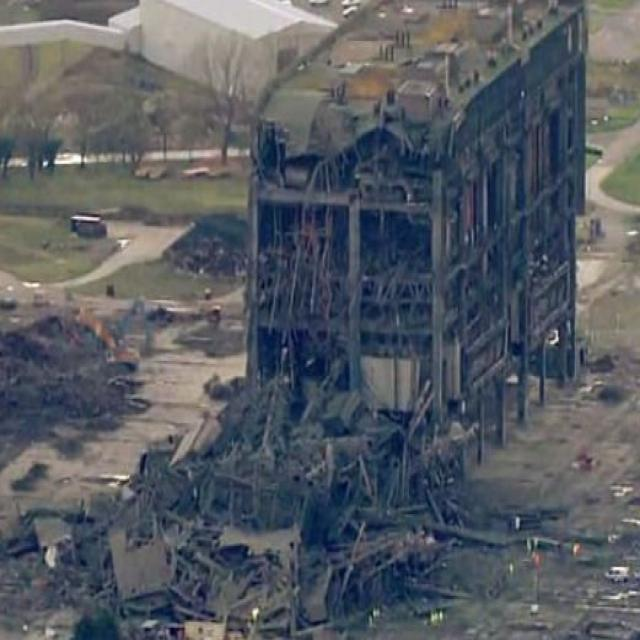collapsed_building: (244, 91, 433, 622)
